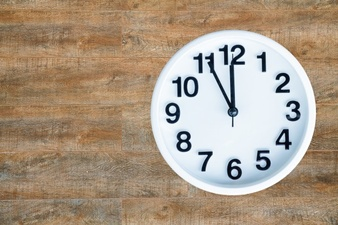clock: (159, 39, 308, 189)
